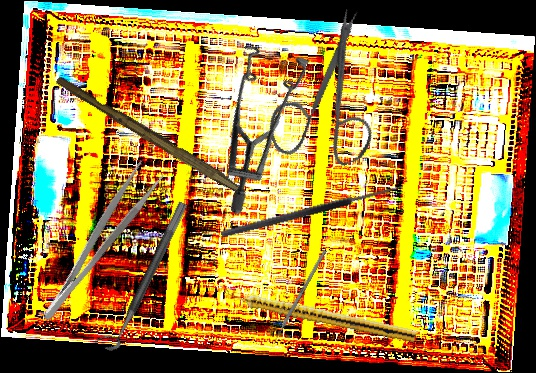Dressing Forceps: (26, 157, 167, 325)
Fixation Ring: (94, 194, 189, 355)
Handpiece: (222, 285, 418, 344)
Hook Surgical: (217, 172, 405, 240)
Iris Scissors: (235, 5, 413, 189)
Pusher: (268, 249, 327, 351)
Scalpel Handle: (52, 74, 250, 197)
Speculum: (155, 20, 356, 218)
